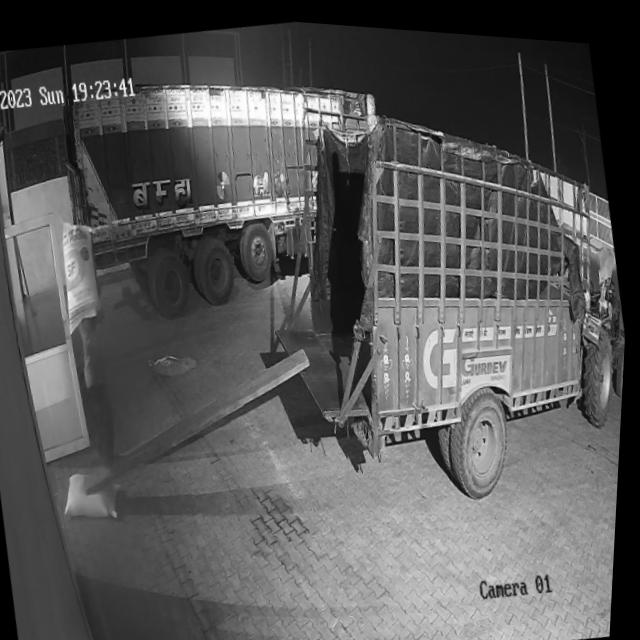sack: (54, 215, 111, 332), (63, 463, 129, 525)
